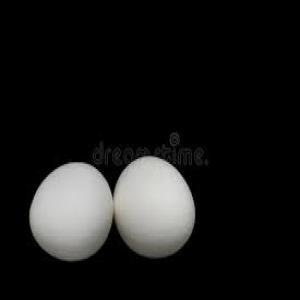Egg: (115, 154, 196, 260), (27, 162, 114, 260)
